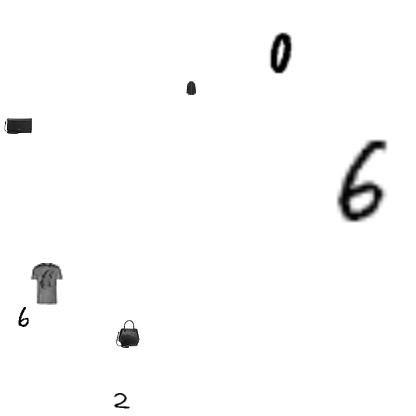0: (251, 25, 307, 81)
2: (110, 390, 132, 412)
6: (302, 129, 414, 241), (9, 304, 37, 332)
Bag: (114, 320, 142, 348), (4, 112, 32, 140)
Coat: (184, 81, 198, 95)
T-shirt/top: (25, 263, 67, 305)
